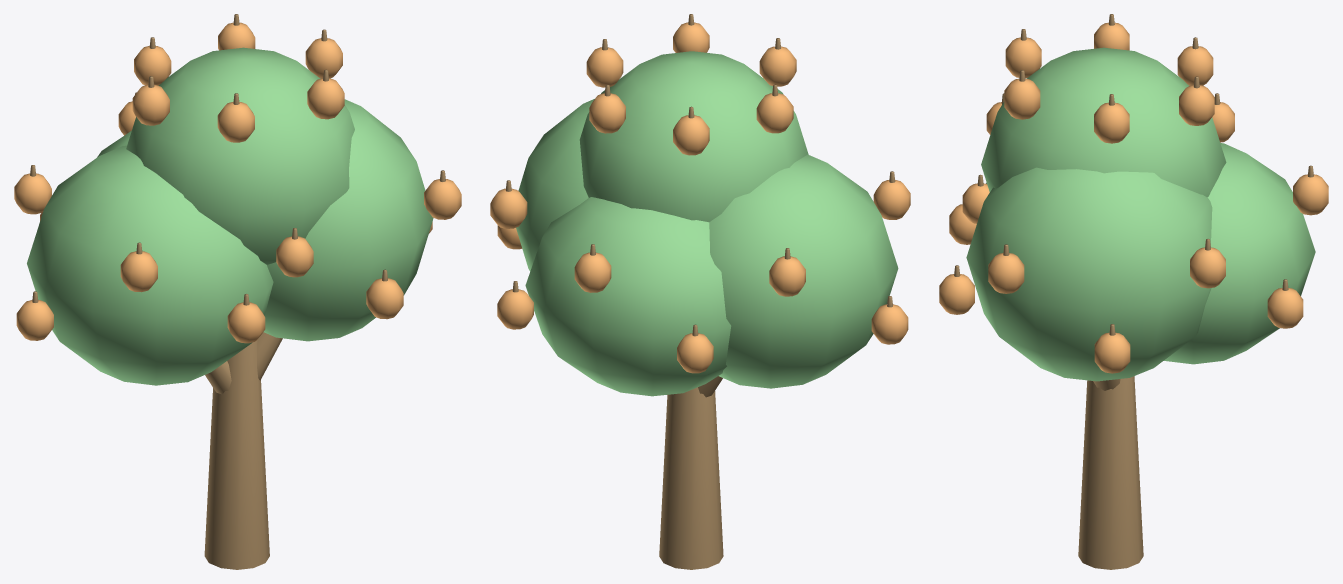
The model's file is tree_fruit_summer.glb.
The picture shows the model from 3 angles, left to right: view 1: azimuth 30°, elevation 25°; view 2: azimuth 150°, elevation 25°; view 3: azimuth 270°, elevation 25°; orthographic projection.
Bounding box in the file's own units: 2.76 × 3.25 × 2.26.
